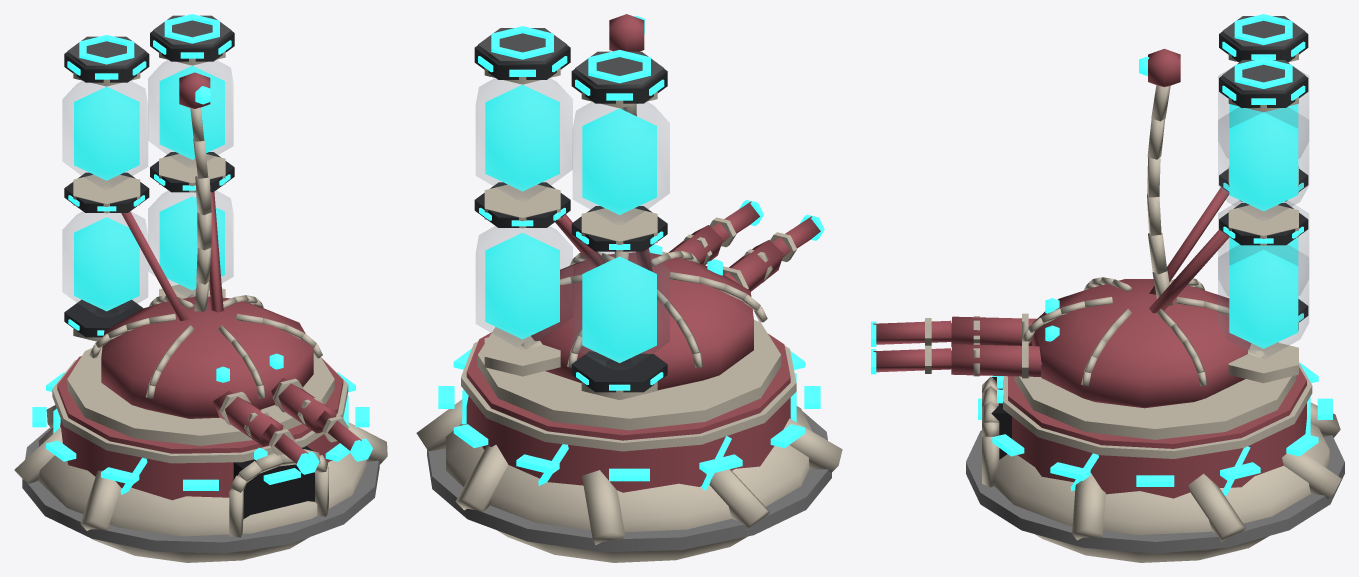
Rendered from Machinegoon_T2_Spitter.glb.
The picture shows the model from 3 angles, left to right: view 1: azimuth 30°, elevation 25°; view 2: azimuth 150°, elevation 25°; view 3: azimuth 270°, elevation 25°; orthographic projection. The views are drawn at different scales.
Visible parts, largest first — view 1: Machinegoon_T2_Spitter_Turret, Machinegoon_T2_Spitter_Base; view 2: Machinegoon_T2_Spitter_Turret, Machinegoon_T2_Spitter_Base; view 3: Machinegoon_T2_Spitter_Turret, Machinegoon_T2_Spitter_Base.
Boxes of the visible parts, x1,y1,x2,y2 form: Machinegoon_T2_Spitter_Turret: [62, 14, 372, 474]; Machinegoon_T2_Spitter_Base: [14, 356, 387, 562]; Machinegoon_T2_Spitter_Turret: [474, 14, 824, 430]; Machinegoon_T2_Spitter_Base: [416, 332, 842, 562]; Machinegoon_T2_Spitter_Turret: [871, 14, 1308, 439]; Machinegoon_T2_Spitter_Base: [966, 362, 1344, 562].
Size of the model in its own units: 3.5 by 4.88 by 4.38.
